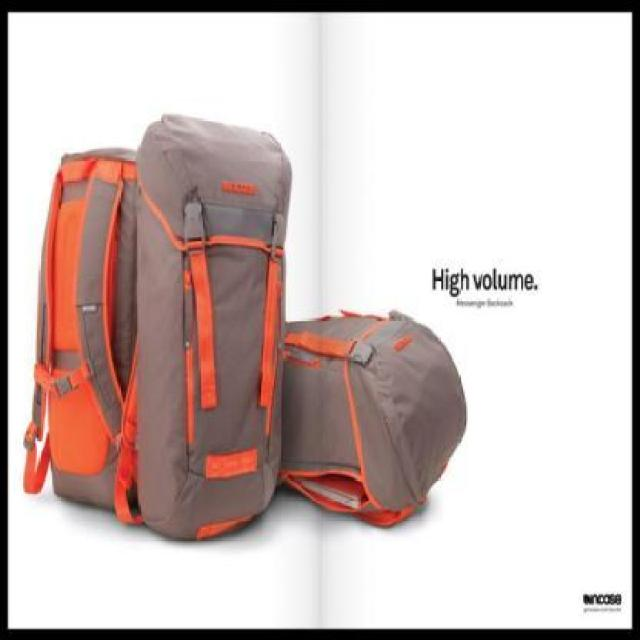backpack: (131, 108, 297, 548), (282, 302, 472, 536), (23, 142, 137, 530)
